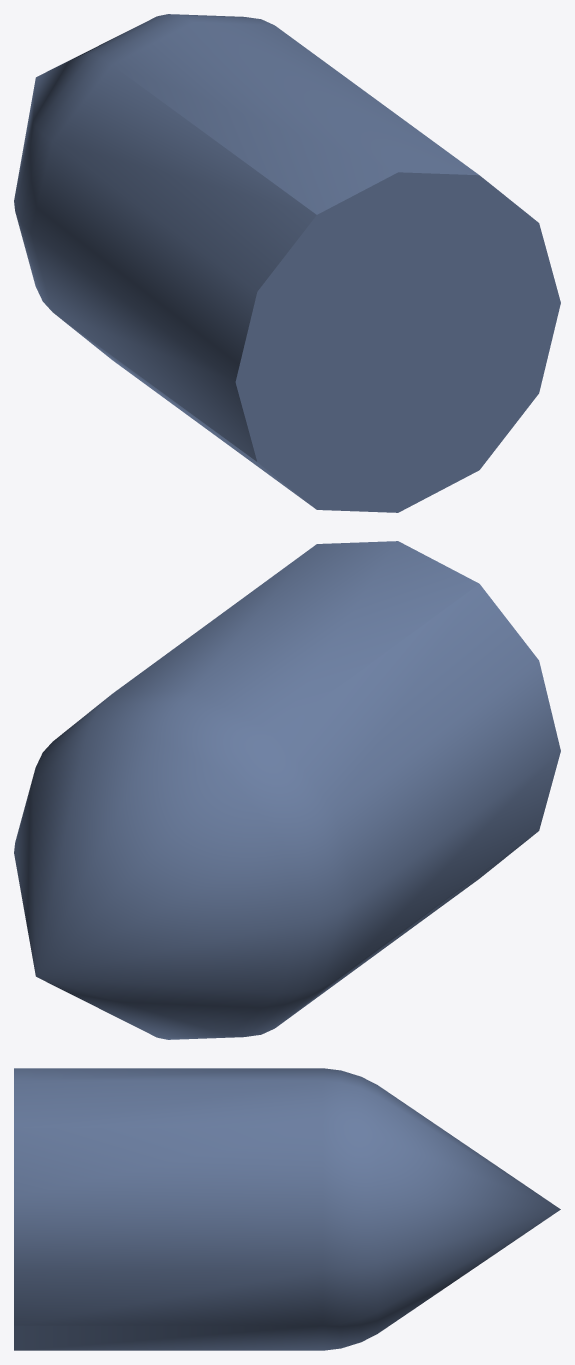
File: AHead.fbx
3 renders of one model, top to bottom at view 1: azimuth 30°, elevation 25°; view 2: azimuth 150°, elevation 25°; view 3: azimuth 270°, elevation 25°, orthographic. The views are drawn at different scales.
Parts seen in each view (by area): view 1: AHead; view 2: AHead; view 3: AHead.
Part boxes in pixels (x1,y1,x2,y2): AHead: [14, 14, 560, 512]; AHead: [14, 541, 560, 1039]; AHead: [14, 1068, 560, 1350].
Bounding box in the file's own units: 62.27 × 62.27 × 120.
